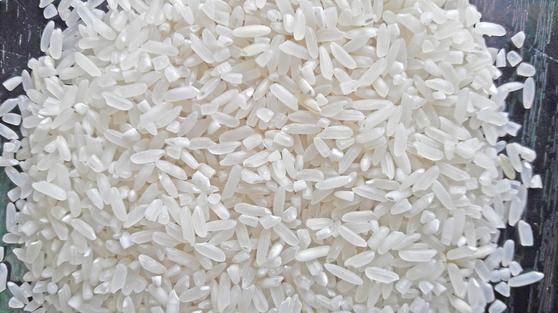rice: (20, 1, 541, 308)
